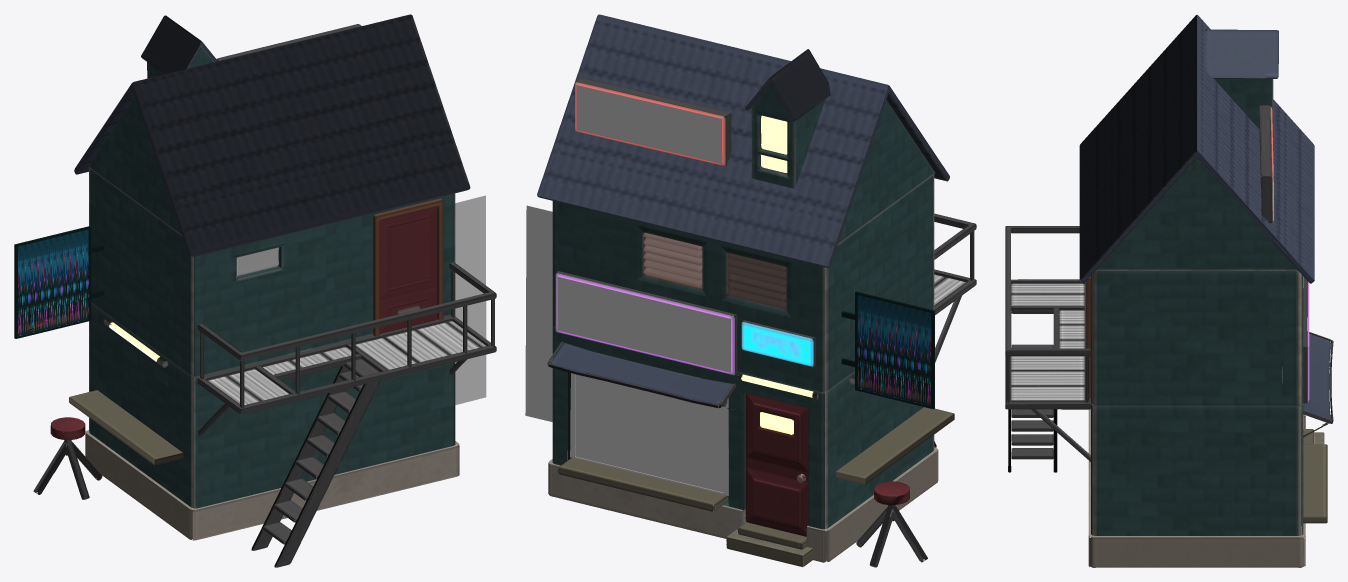
Rendered from FUT0310003.fbx.
3 renders of one model, left to right at view 1: azimuth 30°, elevation 25°; view 2: azimuth 150°, elevation 25°; view 3: azimuth 270°, elevation 25°, orthographic. The views are drawn at different scales.
Parts seen in each view (by area): view 1: smFUT0310003; view 2: smFUT0310003; view 3: smFUT0310003.
Part boxes in pixels (box(x1,y1,x2,y2)): smFUT0310003: box(14, 14, 496, 567); smFUT0310003: box(525, 14, 976, 567); smFUT0310003: box(1005, 14, 1333, 567).
Size of the model in its own units: 615 by 682 by 453.
